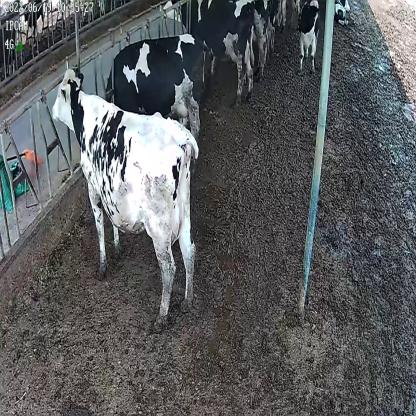cow: (46, 60, 200, 337), (158, 0, 258, 112), (98, 34, 204, 138), (296, 0, 321, 78), (333, 0, 352, 28)
